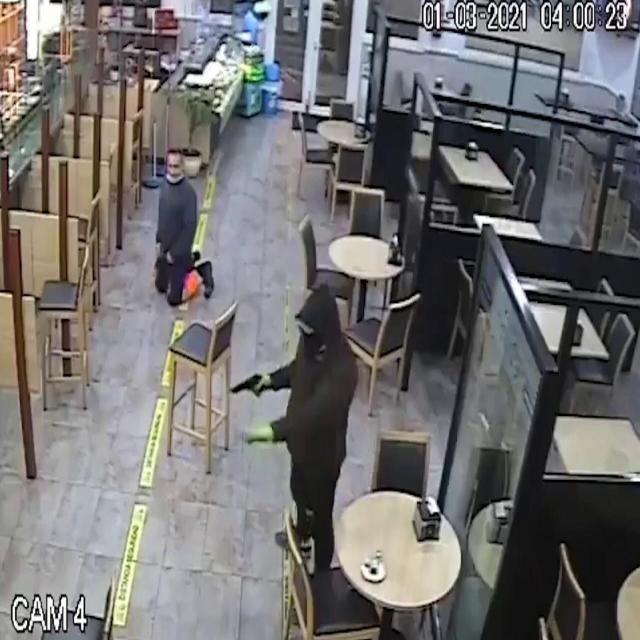weapon: (220, 363, 276, 413)
